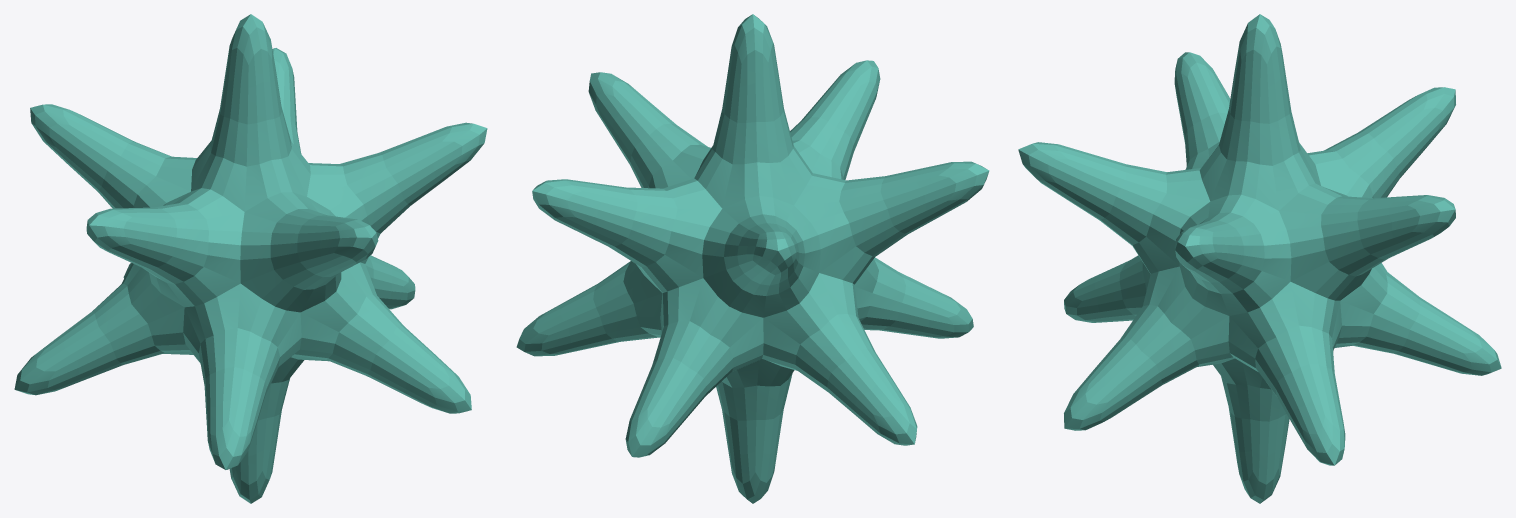
Rendered from web3.glb.
3 views of the same model, side by side, from view 1: azimuth 30°, elevation 25°; view 2: azimuth 150°, elevation 25°; view 3: azimuth 270°, elevation 25° (orthographic).
Visible parts, largest first — view 1: web3; view 2: web3; view 3: web3.
Boxes of the visible parts, bbox=[...] form: web3: bbox=[14, 14, 487, 503]; web3: bbox=[516, 14, 989, 503]; web3: bbox=[1018, 14, 1501, 503].
Bounding box in the file's own units: 5.1 × 6 × 5.37.
